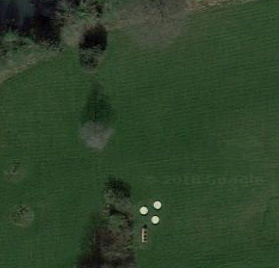tree: (82, 108, 134, 159), (77, 36, 123, 83), (95, 183, 139, 217), (9, 200, 44, 232)
